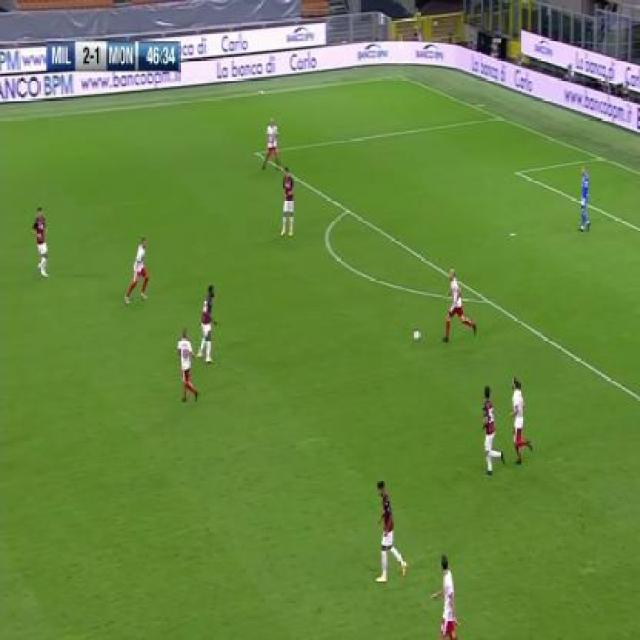ball: (413, 326, 422, 342)
player: (375, 482, 408, 587), (442, 267, 478, 346), (432, 553, 460, 639), (480, 387, 505, 476), (510, 375, 532, 466), (124, 236, 152, 305), (196, 284, 219, 366), (177, 328, 200, 405), (31, 204, 51, 278), (260, 115, 283, 174), (279, 166, 296, 242), (576, 161, 593, 232)
